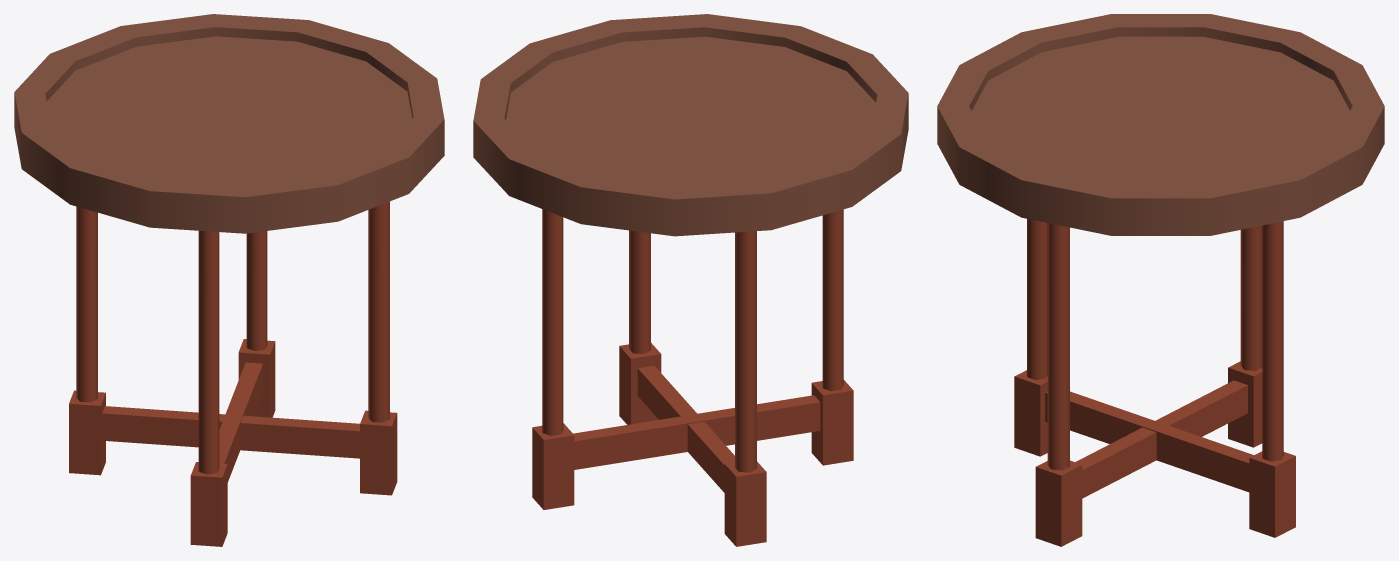
File: SM_Secondary_Table.fbx
The picture shows the model from 3 angles, left to right: view 1: azimuth 30°, elevation 25°; view 2: azimuth 150°, elevation 25°; view 3: azimuth 270°, elevation 25°; orthographic projection. The views are drawn at different scales.
Parts seen in each view (by area): view 1: Table_Secondary; view 2: Table_Secondary; view 3: Table_Secondary.
Boxes of the visible parts, <box> form: Table_Secondary: <box>14,14,444,546</box>; Table_Secondary: <box>473,14,908,546</box>; Table_Secondary: <box>937,14,1384,546</box>.
Size of the model in its own units: 117 by 113 by 120.
